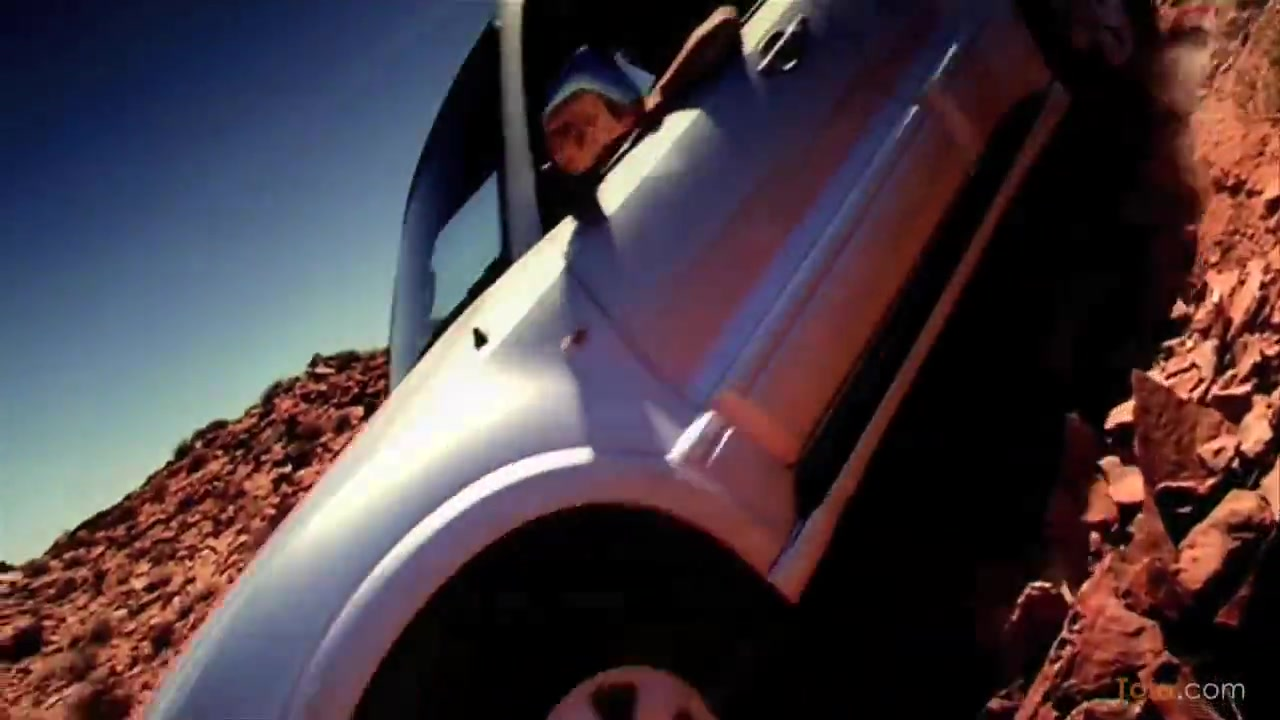car: (143, 1, 1161, 719)
